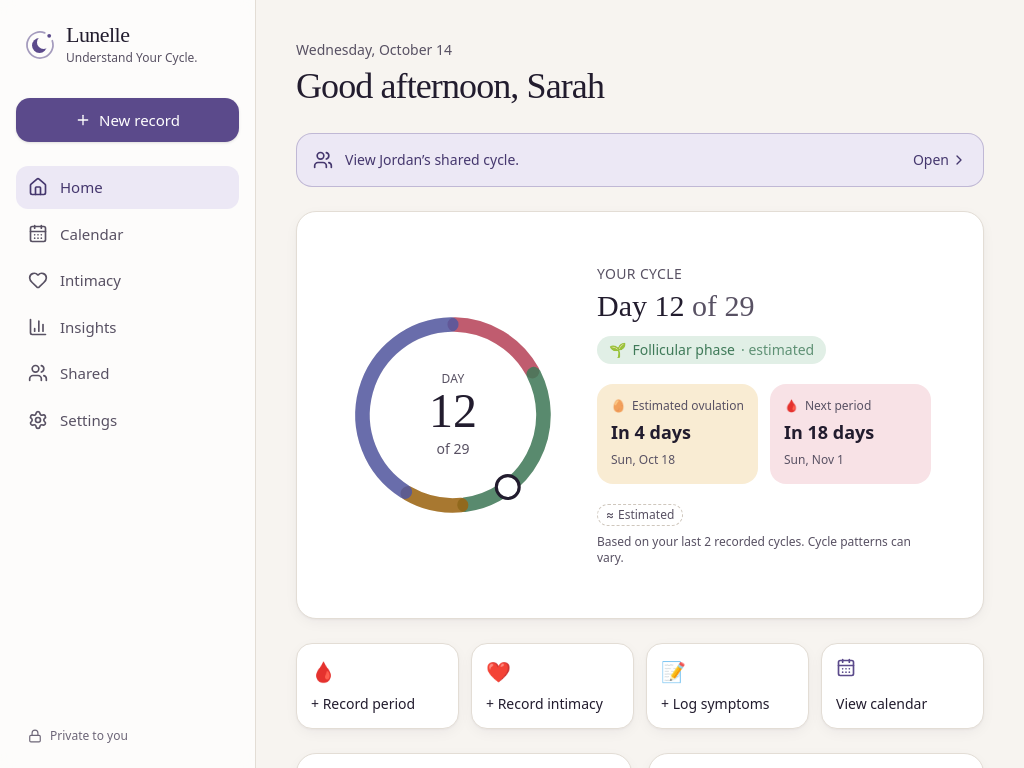
Test: signed-in app › opens a record dialog from the quick actions
Step 1. Click the button "❤️ + Record intimacy" → [552, 686], box [471,643,634,729]
(page scrolled)
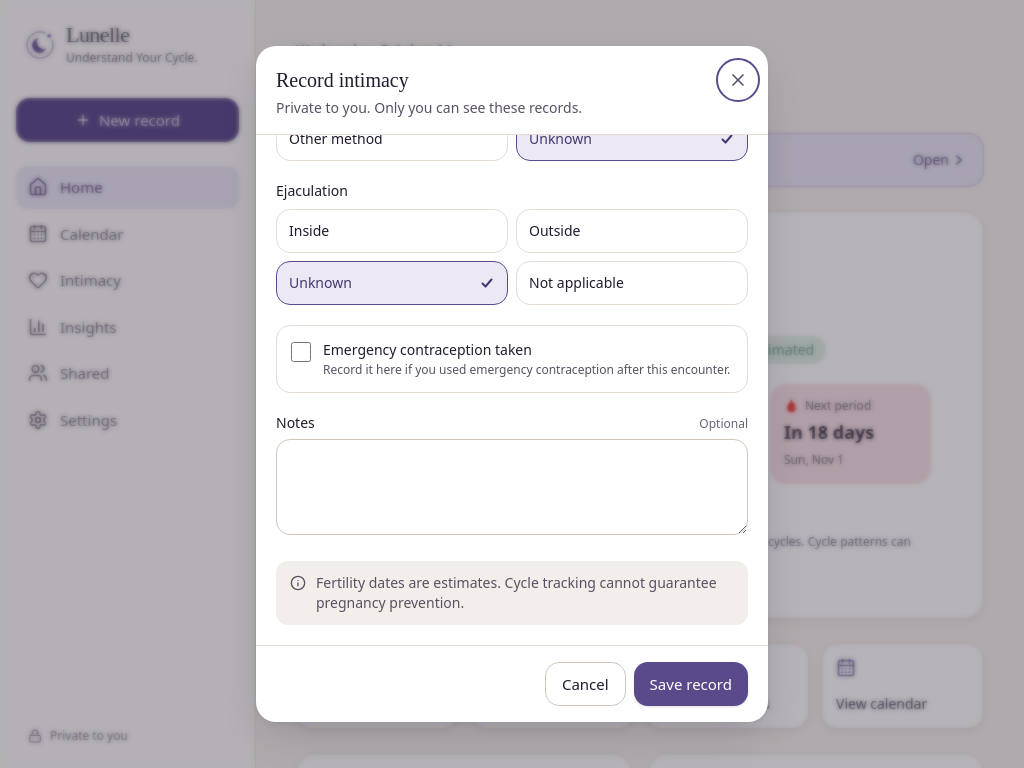
Expected: the text "cannot guarantee pregnancy prevention" is shown, [316,573,717,612]
